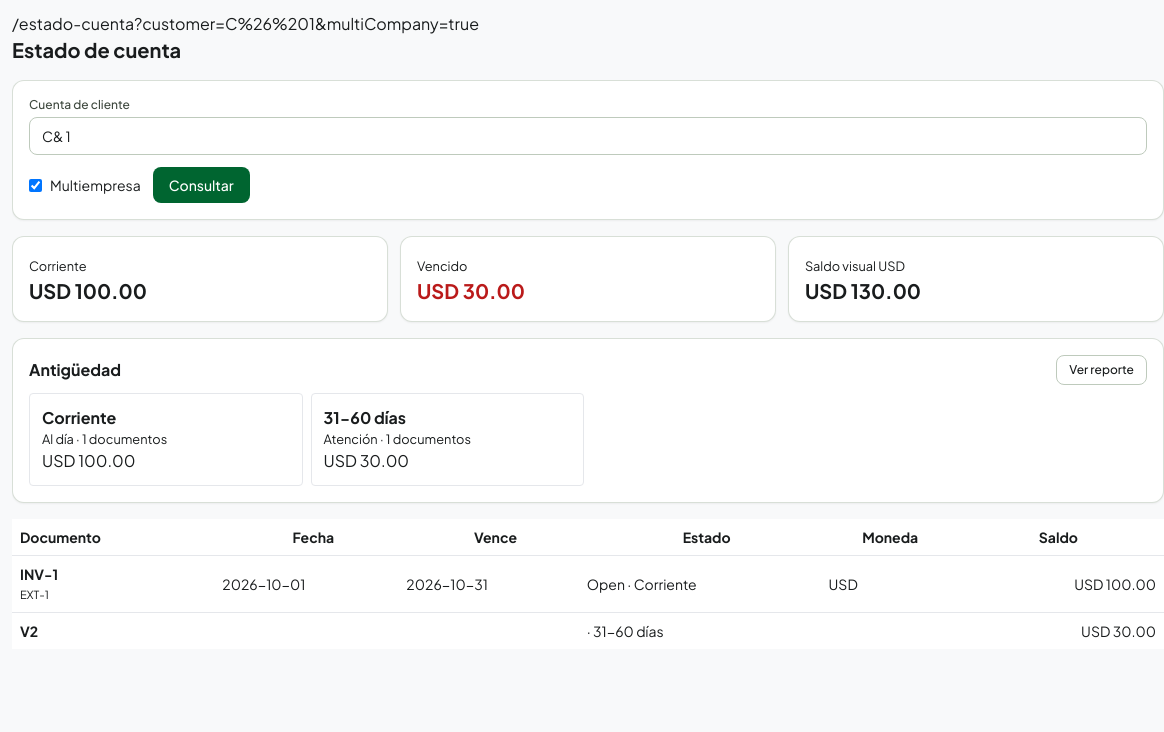
Test: AccountStatementPage › takes filters from the URL, trims a submitted account and preserves multi-company selection
Step 1. Replace the text in the field with " C2 " → (588, 136), box x1=29 y1=117 x2=1147 y2=155
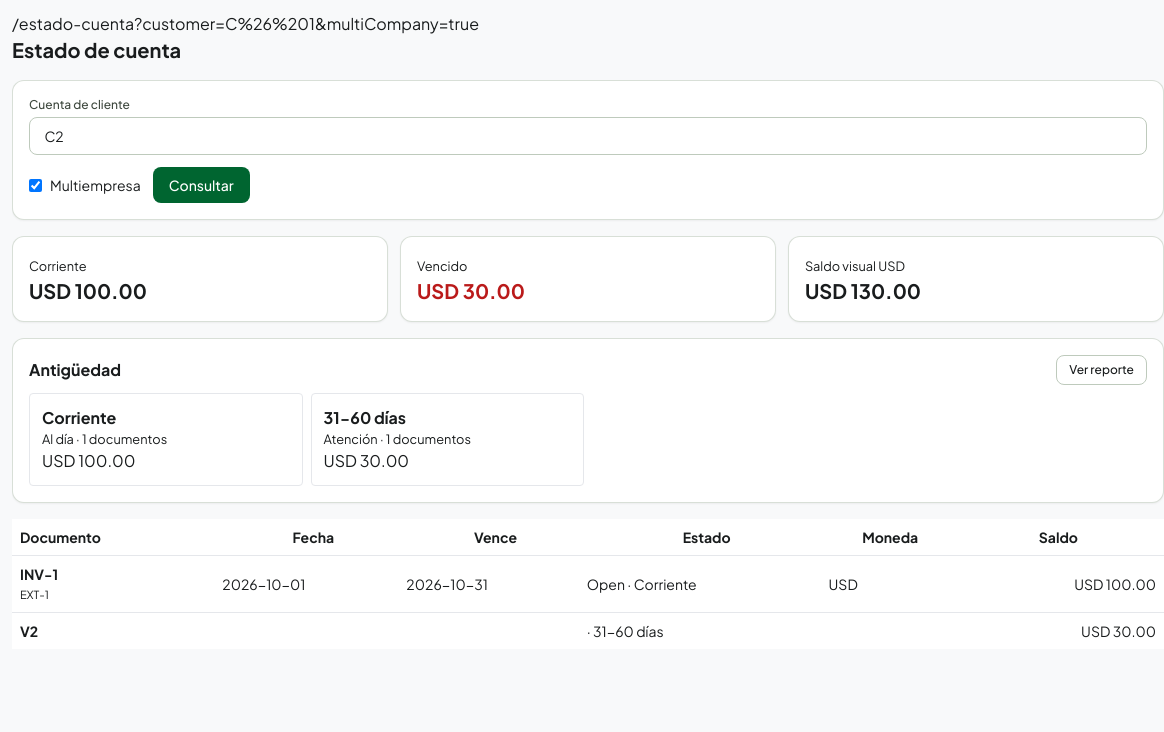
Step 2. Click the button "Consultar" → (201, 185), box x1=153 y1=167 x2=250 y2=203
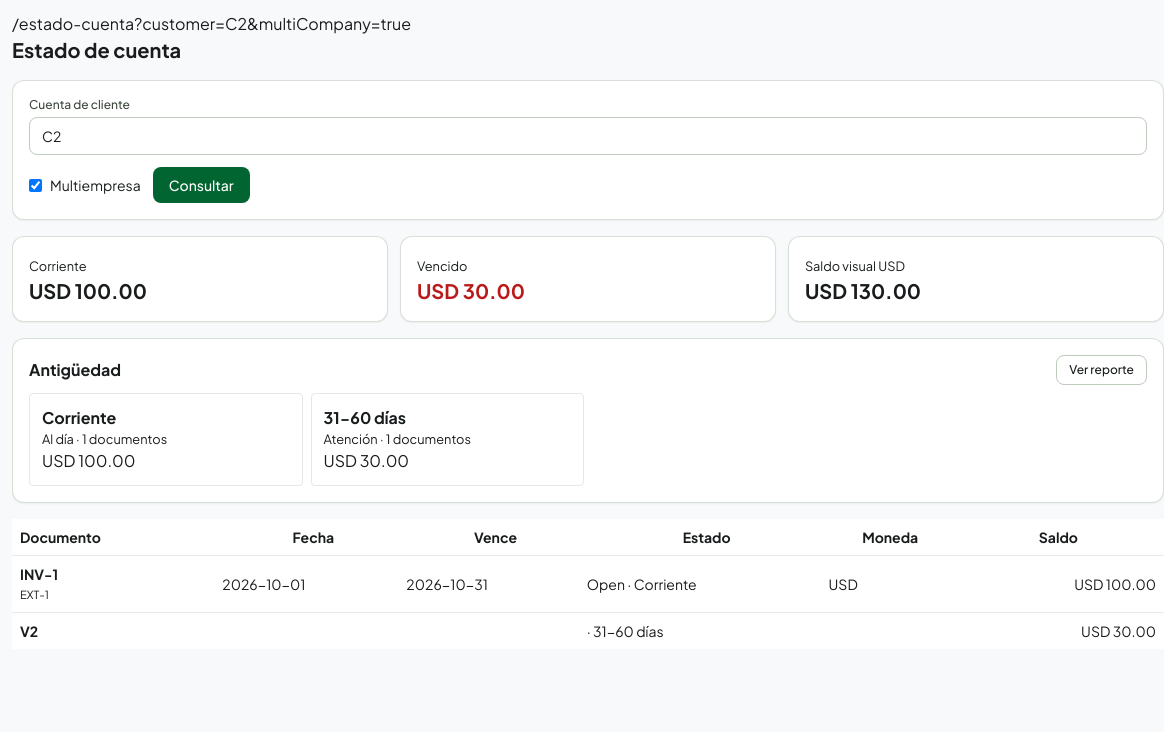
Step 3. Click the checkbox labelled "Multiempresa" → (36, 185), box x1=29 y1=178 x2=42 y2=192
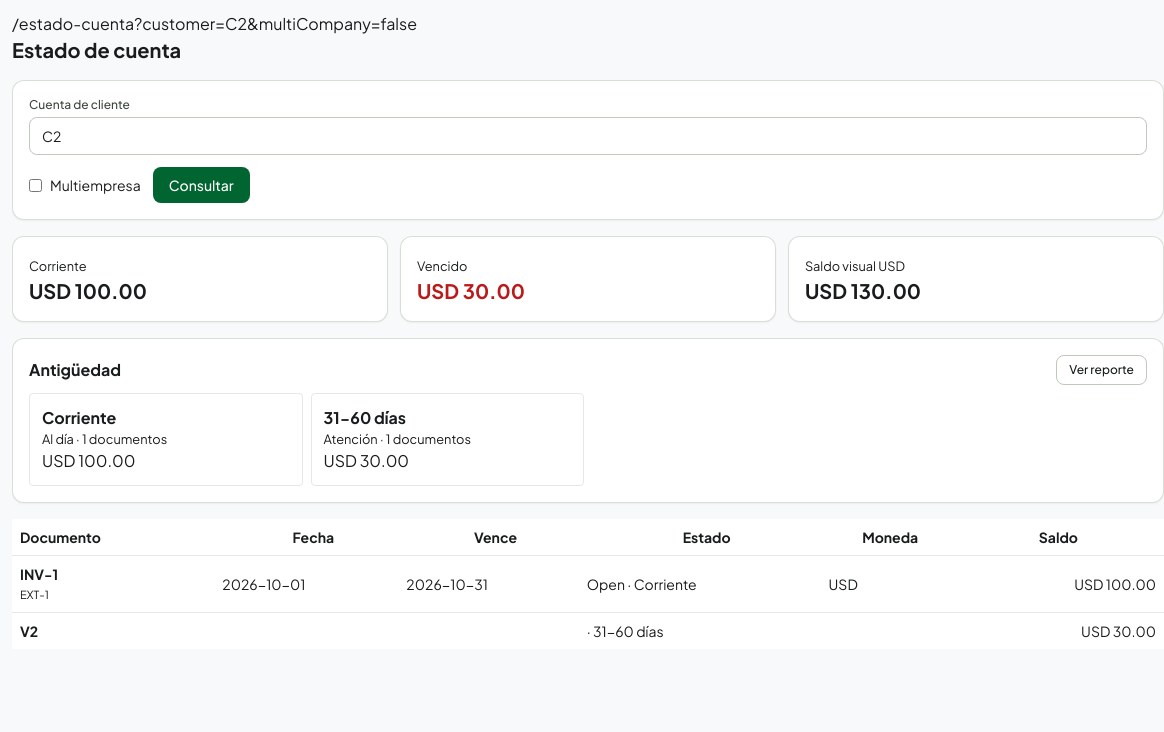
Step 4. Replace the text in the field with "C3" → (588, 136), box x1=29 y1=117 x2=1147 y2=155
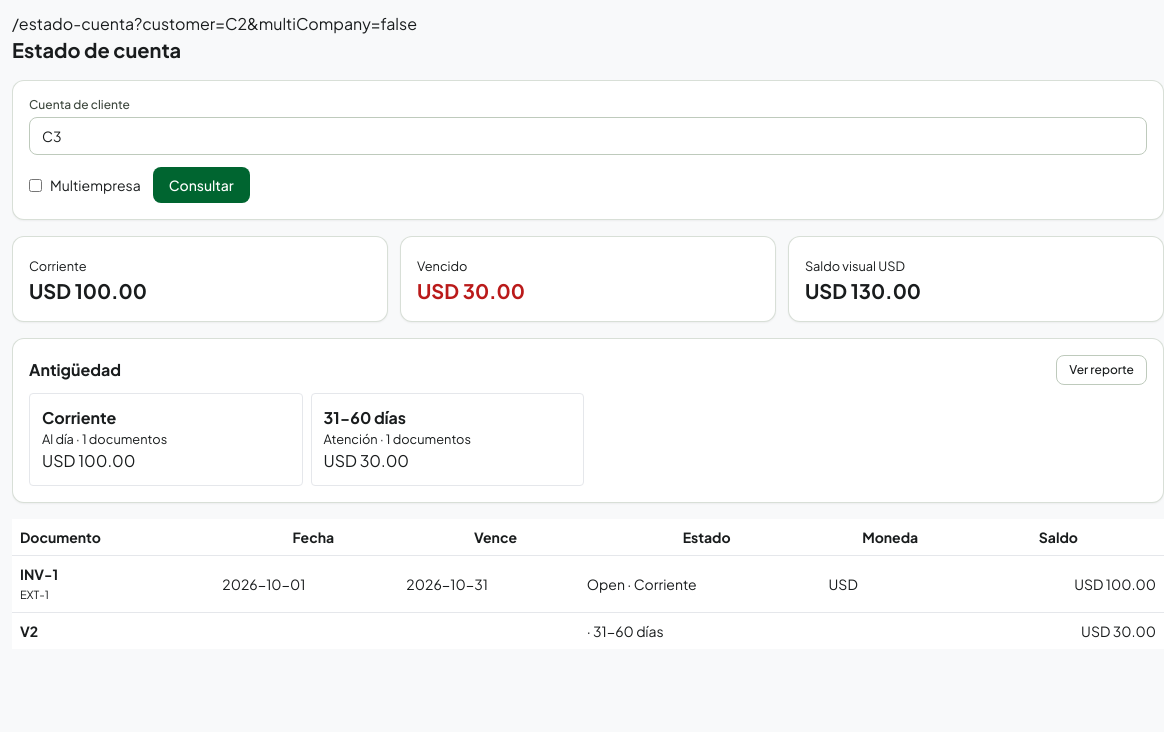
Step 5. Click the button "Consultar" → (201, 185), box x1=153 y1=167 x2=250 y2=203
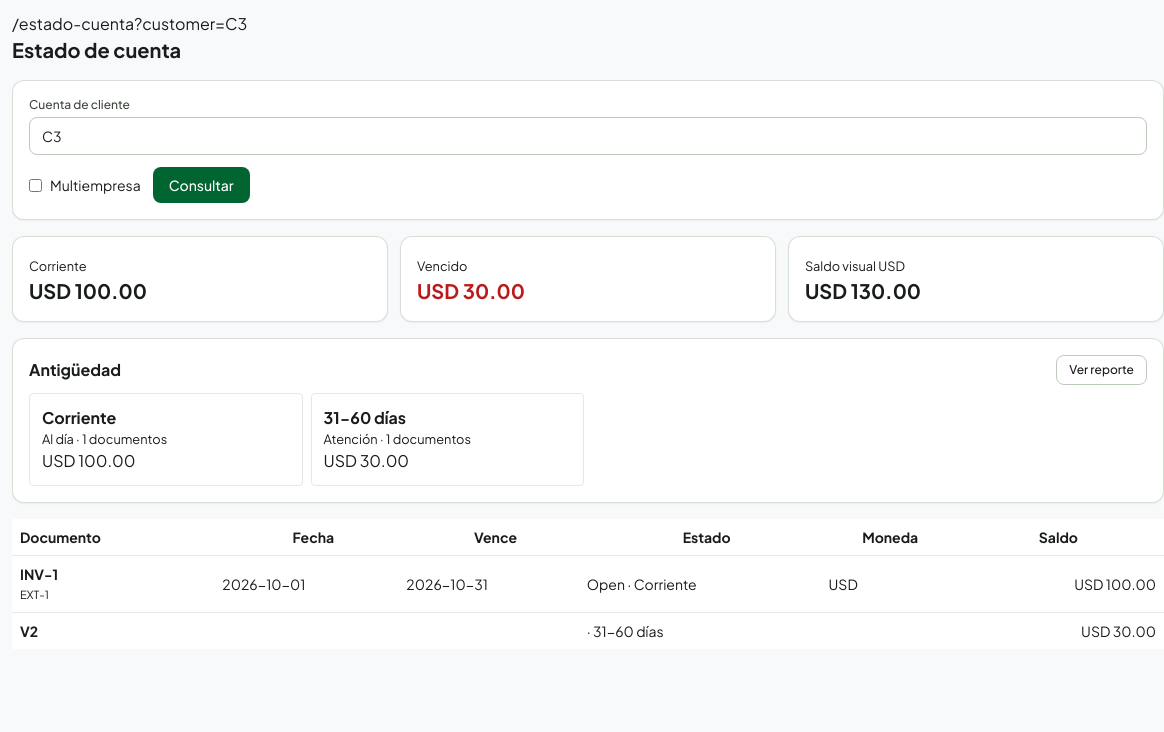
Now the text with test id "location" reads "/estado-cuenta?customer=C3", box x1=12 y1=13 x2=247 y2=34
Now the text with test id "location" no longer shows "multiCompany", box x1=12 y1=13 x2=247 y2=34
